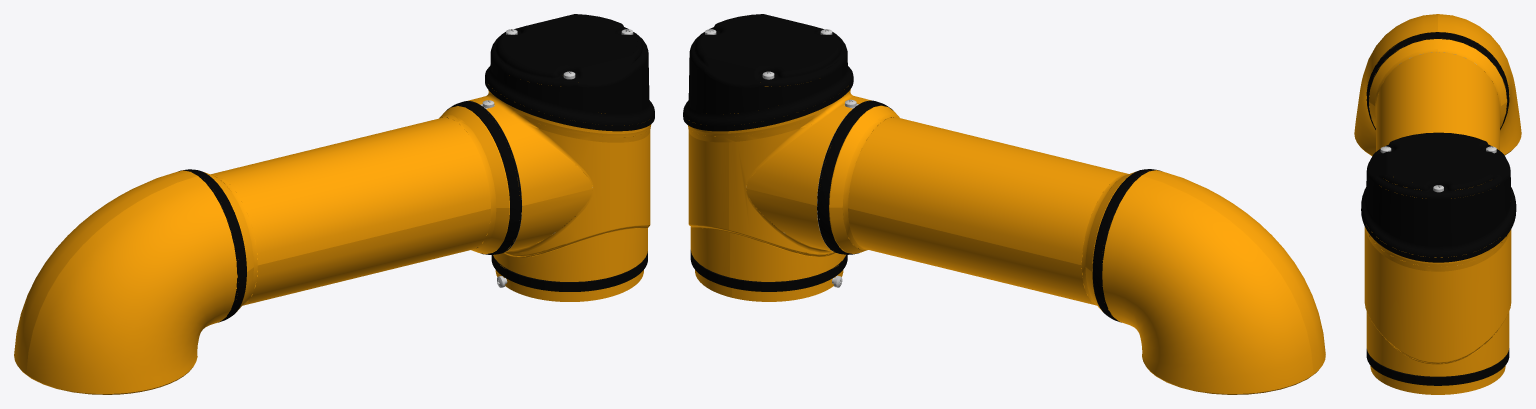
3 views of the same model, side by side, from view 1: azimuth 30°, elevation 25°; view 2: azimuth 150°, elevation 25°; view 3: azimuth 270°, elevation 25° (orthographic). The views are drawn at different scales.
Parts seen in each view (by area): view 1: mesh; view 2: mesh; view 3: mesh.
Part boxes in pixels (x1,y1,x2,y2): mesh: (14, 14, 654, 394); mesh: (683, 14, 1325, 394); mesh: (1354, 14, 1521, 394).
Size of the model in its own units: 0.3415 by 0.0879 by 0.1201.
